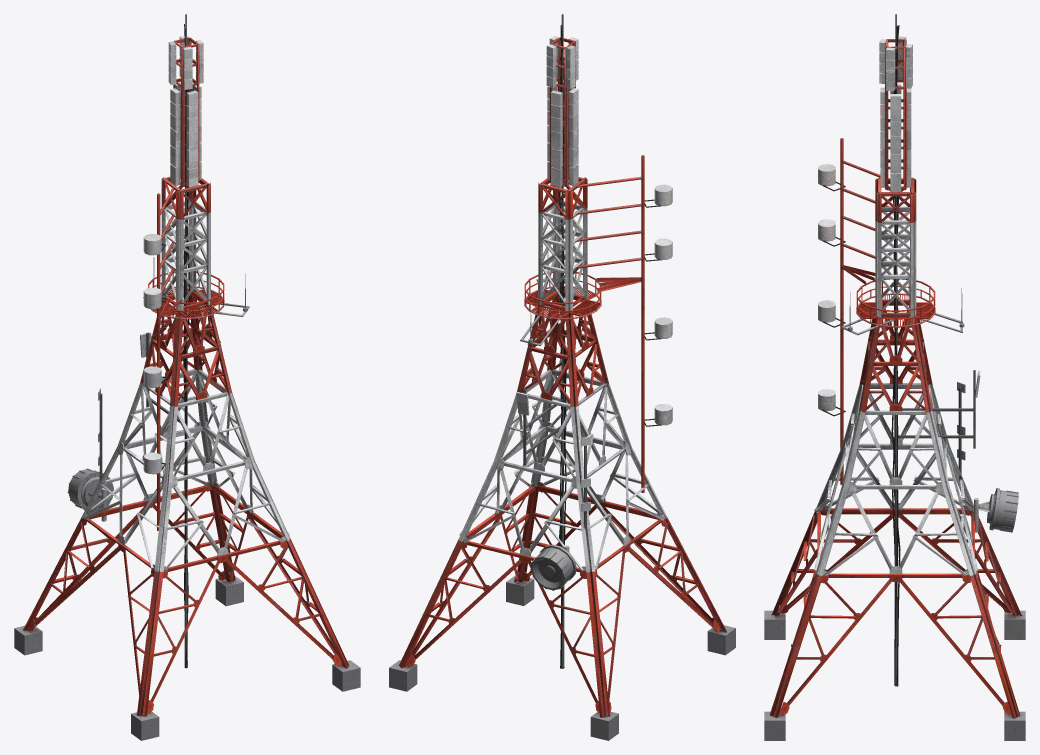
File: transmission_Tower02.gltf
The picture shows the model from 3 angles, left to right: view 1: azimuth 30°, elevation 25°; view 2: azimuth 150°, elevation 25°; view 3: azimuth 270°, elevation 25°; orthographic projection. The views are drawn at different scales.
Visible parts, largest first — view 1: transmission, mesh; view 2: transmission, mesh; view 3: transmission, mesh.
Part boxes in pixels (x1,y1,x2,y2): transmission: (14,14,360,740); mesh: (148,271,224,318); transmission: (389,14,735,740); mesh: (524,271,601,318); transmission: (764,14,1025,740); mesh: (856,279,935,326).
Bounding box in the file's own units: 92.16 × 262 × 92.52.
Materials: 2 (2 with a texture image).
